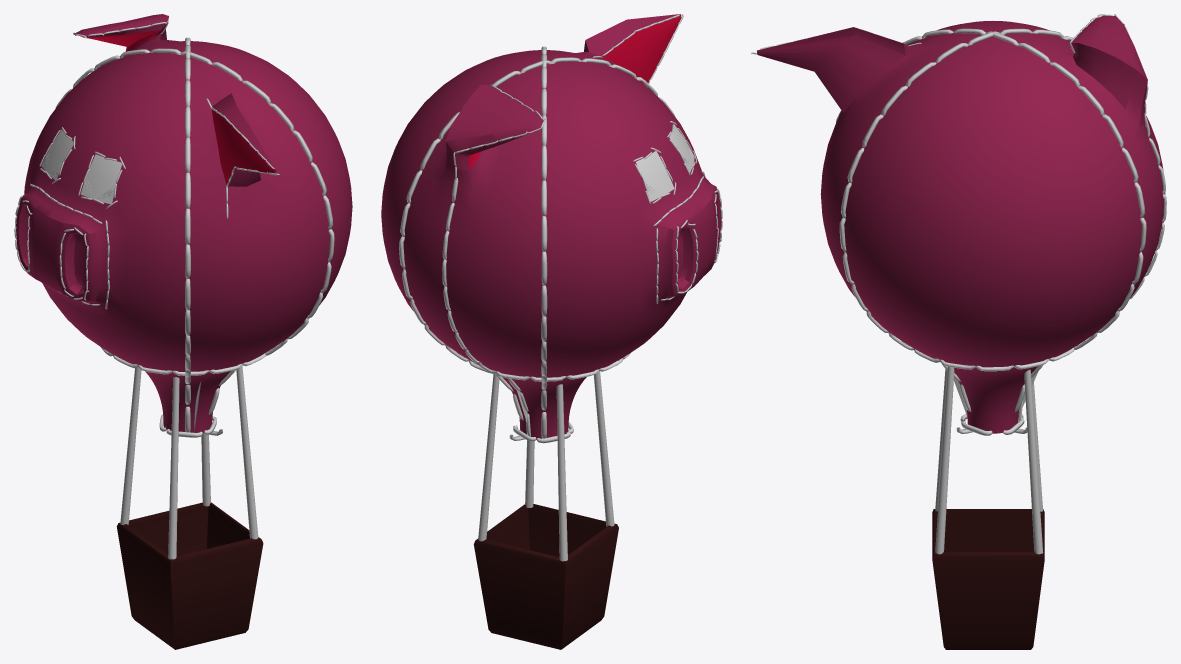
File: globo_cerdo.fbx
The picture shows the model from 3 angles, left to right: view 1: azimuth 30°, elevation 25°; view 2: azimuth 150°, elevation 25°; view 3: azimuth 270°, elevation 25°; orthographic projection. The views are drawn at different scales.
Parts seen in each view (by area): view 1: Mesh (2), Mesh, Cuerdas; view 2: Mesh (2), Mesh, Cuerdas; view 3: Mesh (2), Mesh, Cuerdas.
Part boxes in pixels (box(x1,y1,x2,y2)): Mesh (2): box(16, 14, 352, 432); Mesh: box(116, 502, 263, 649); Cuerdas: box(120, 365, 258, 559); Mesh (2): box(381, 14, 721, 439); Mesh: box(473, 504, 618, 649); Cuerdas: box(478, 371, 614, 561); Mesh (2): box(757, 16, 1165, 433); Mesh: box(932, 509, 1044, 649); Cuerdas: box(935, 366, 1043, 554).
Size of the model in its own units: 319 by 583 by 365.
